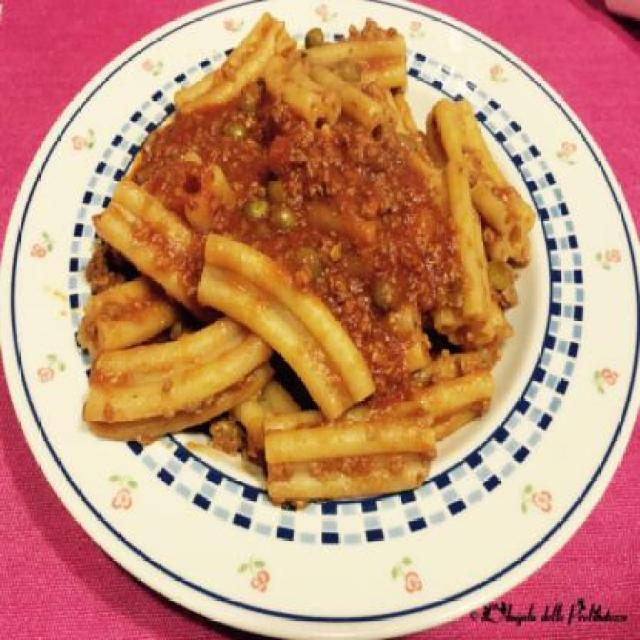Pasta al ragu: (63, 9, 554, 514)
